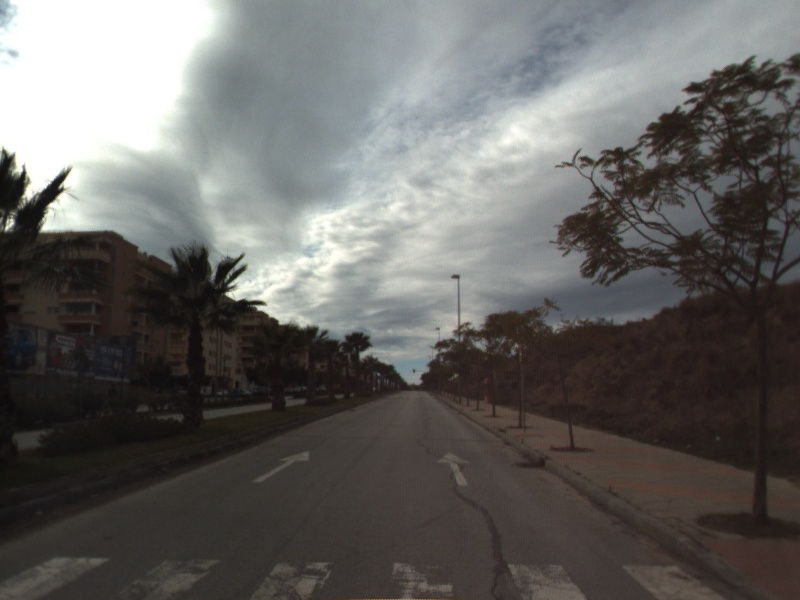STRAIGHT: (249, 448, 311, 485), (434, 449, 473, 488)
